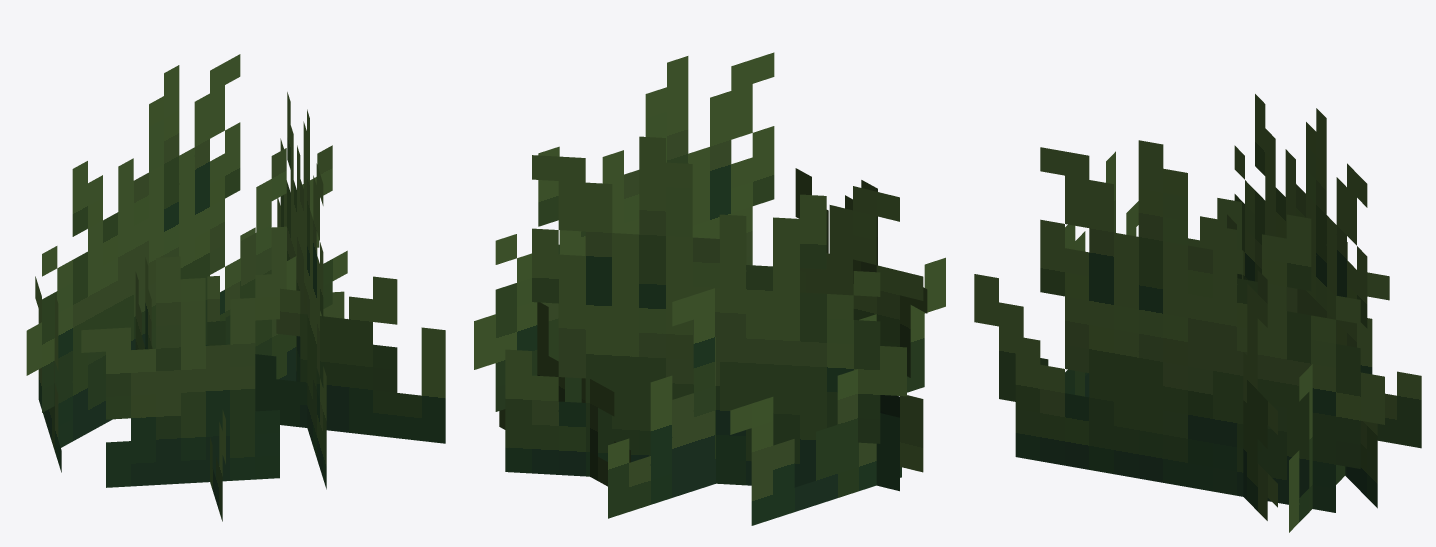
Rendered from grass-3.gltf.
The picture shows the model from 3 angles, left to right: view 1: azimuth 30°, elevation 25°; view 2: azimuth 150°, elevation 25°; view 3: azimuth 270°, elevation 25°; orthographic projection. The views are drawn at different scales.
Visible parts, largest first — view 1: cube (×9); view 2: cube (×8); view 3: cube (×8).
Boxes of the visible parts, bbox=[...] form: cube (×9): bbox=[26, 54, 445, 521]; cube (×8): bbox=[474, 52, 945, 525]; cube (×8): bbox=[974, 94, 1421, 532].
Bounding box in the file's own units: 1.04 × 0.875 × 1.05.
1 material, 1 textured.
